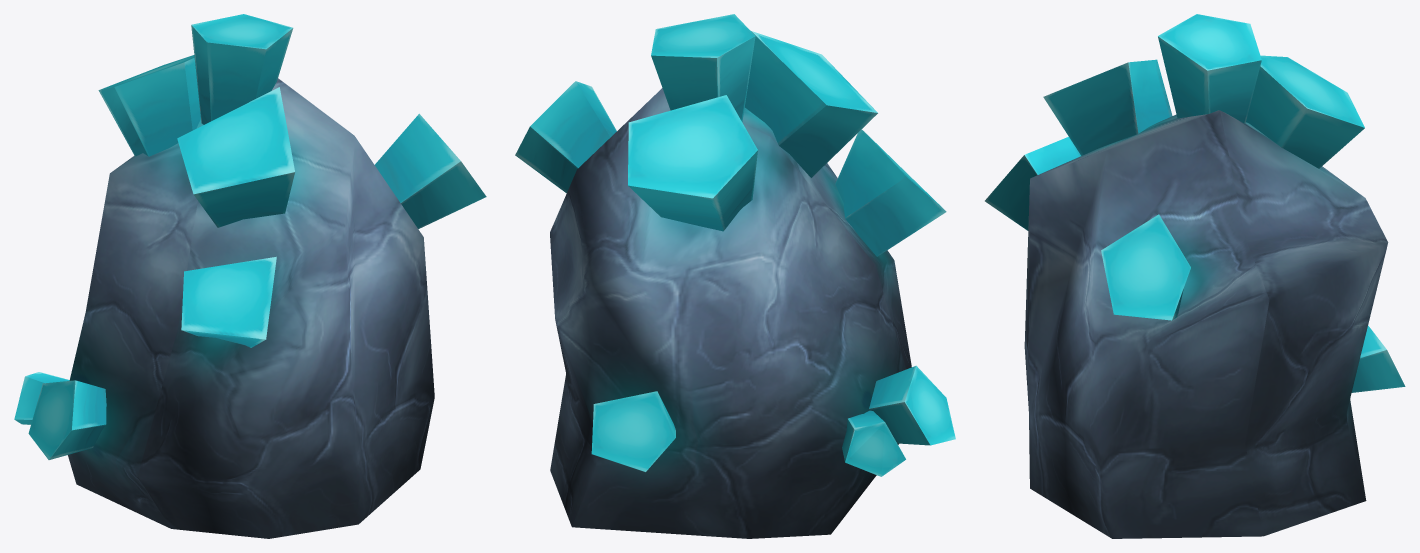
Rendered from ore_big_mithril.fbx.
3 views of the same model, side by side, from view 1: azimuth 30°, elevation 25°; view 2: azimuth 150°, elevation 25°; view 3: azimuth 270°, elevation 25° (orthographic). The views are drawn at different scales.
Parts seen in each view (by area): view 1: ore_big_mithril1:Mesh; view 2: ore_big_mithril1:Mesh; view 3: ore_big_mithril1:Mesh.
Boxes of the visible parts, bbox=[...] form: ore_big_mithril1:Mesh: bbox=[14, 14, 486, 538]; ore_big_mithril1:Mesh: bbox=[515, 14, 955, 538]; ore_big_mithril1:Mesh: bbox=[985, 14, 1405, 538].
Size of the model in its own units: 4.94 by 4.9 by 4.24.
